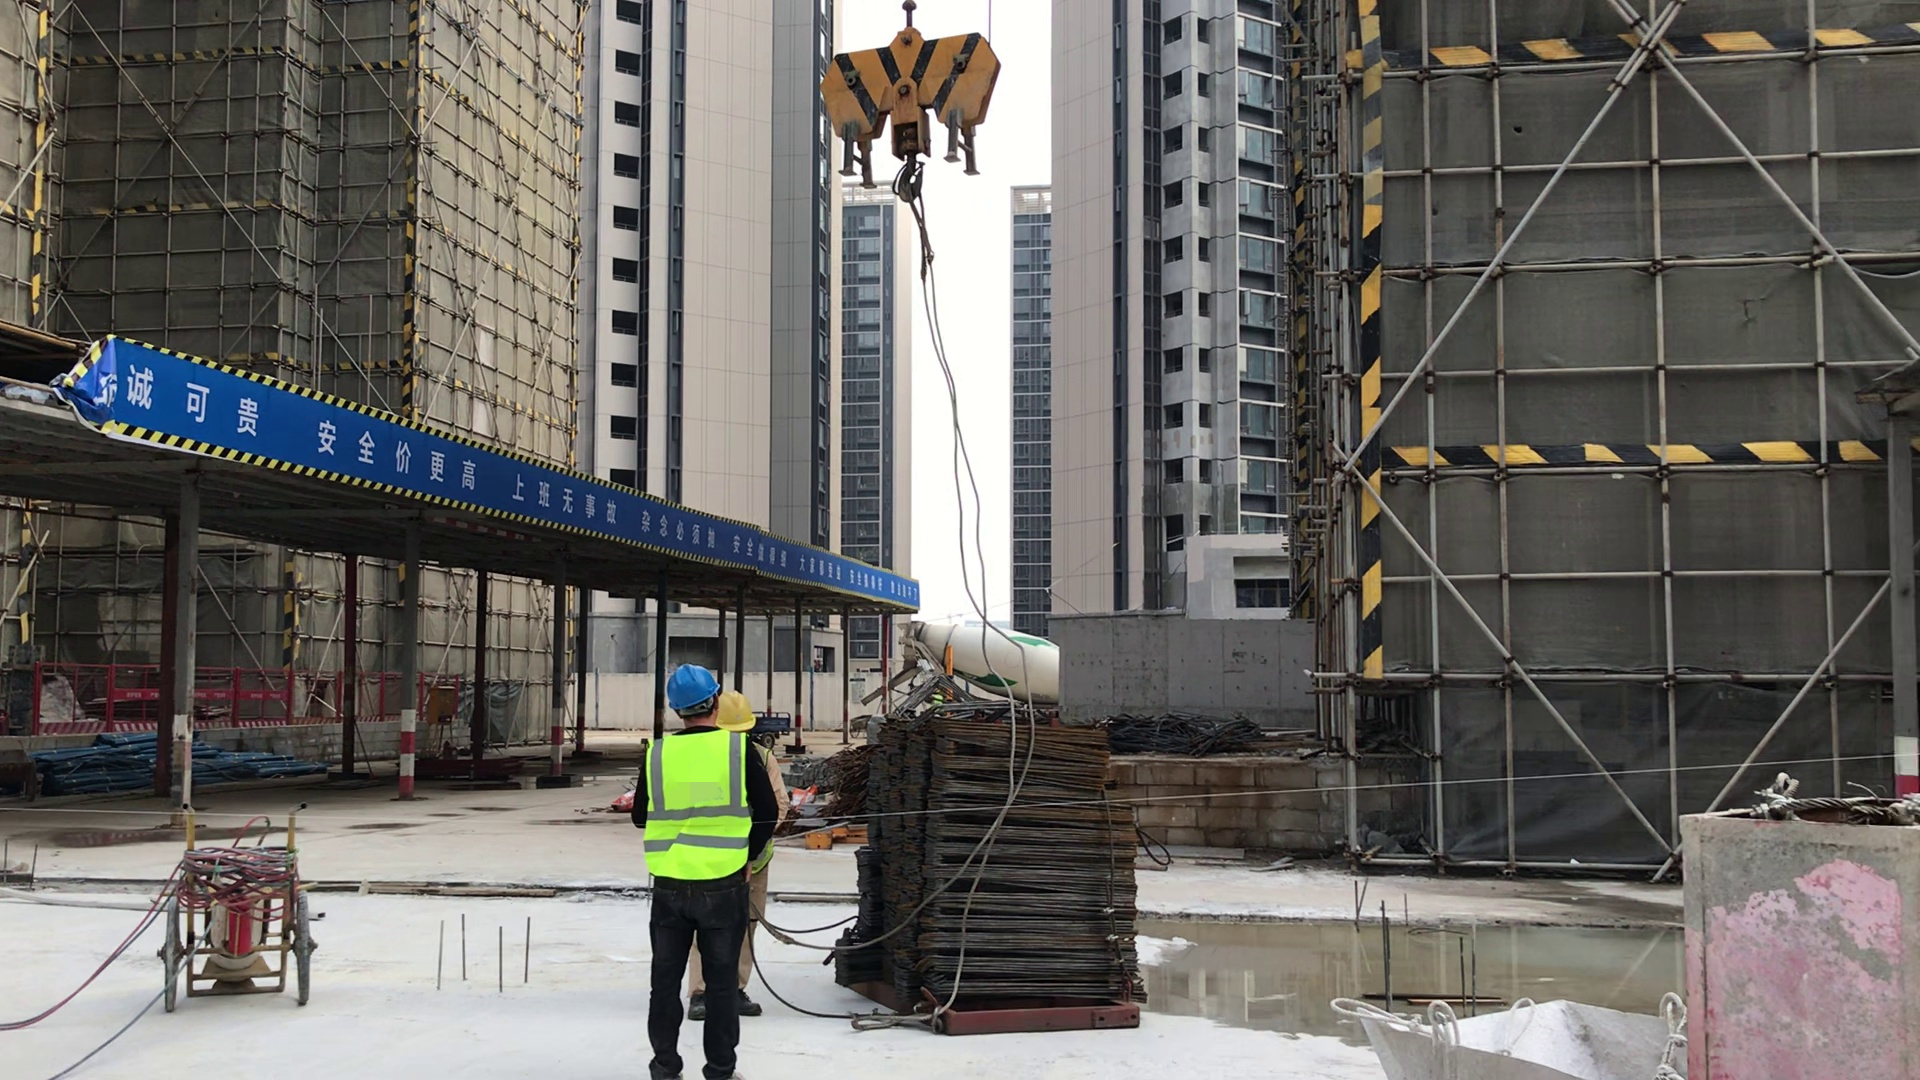fence: (22, 657, 485, 746)
handcart: (133, 787, 357, 1012)
helmet: (661, 654, 725, 734), (714, 692, 758, 735)
hook: (779, 5, 1056, 239)
hopper: (1653, 776, 1920, 1078)
person: (629, 651, 753, 1080), (723, 692, 831, 1041)
slogan: (49, 334, 927, 628)
vest: (634, 727, 772, 891)
